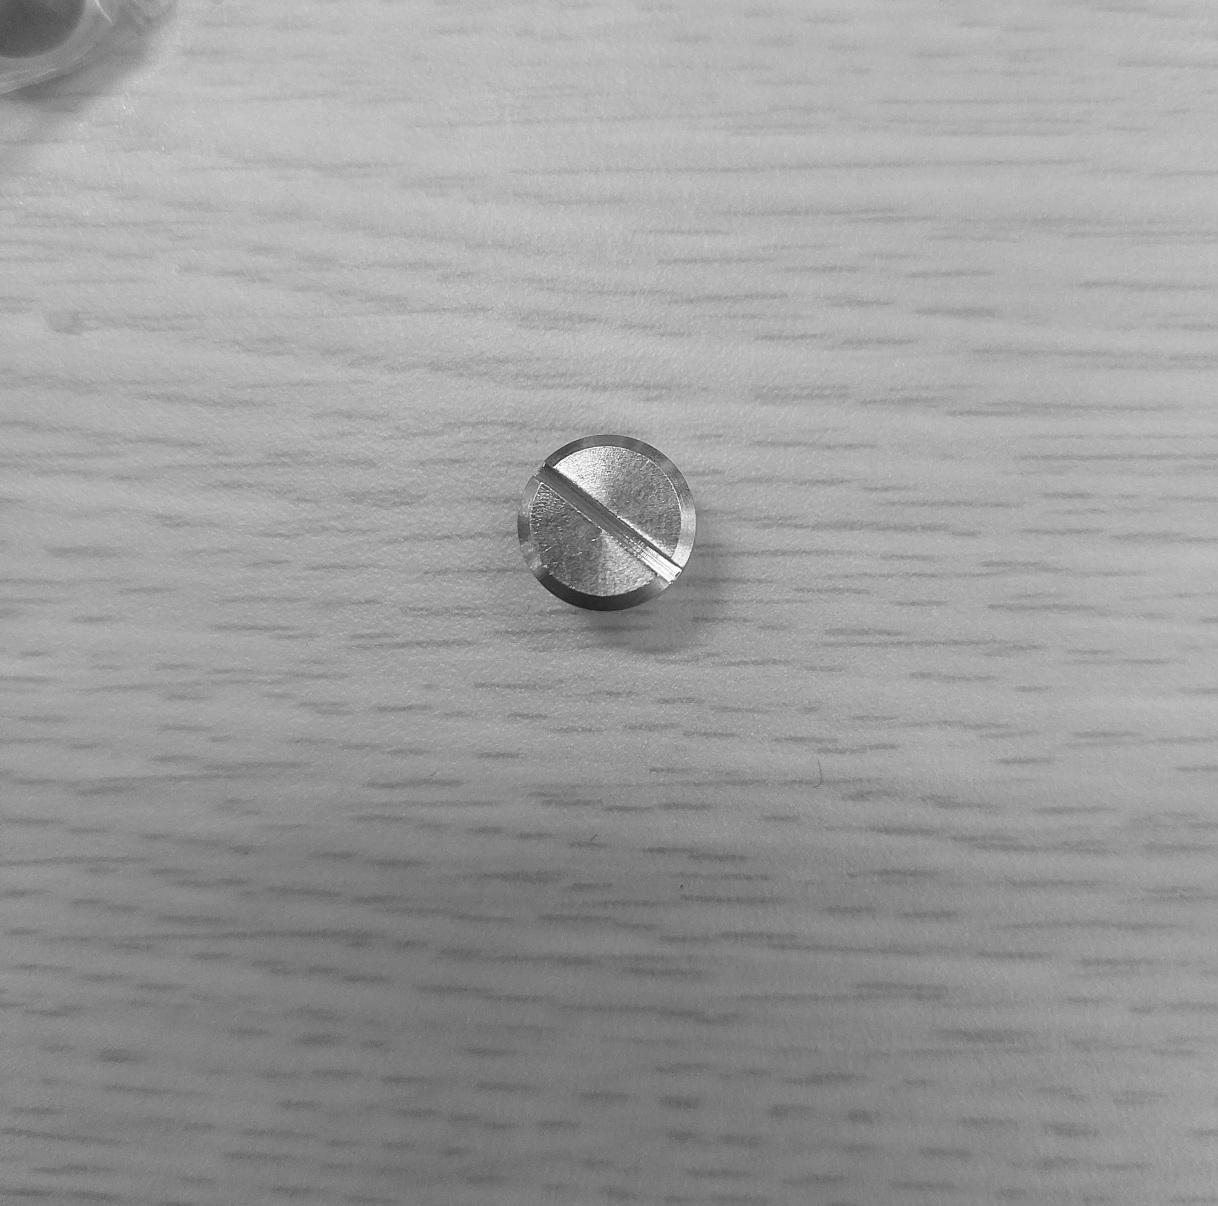slotted: (507, 431, 702, 609)
